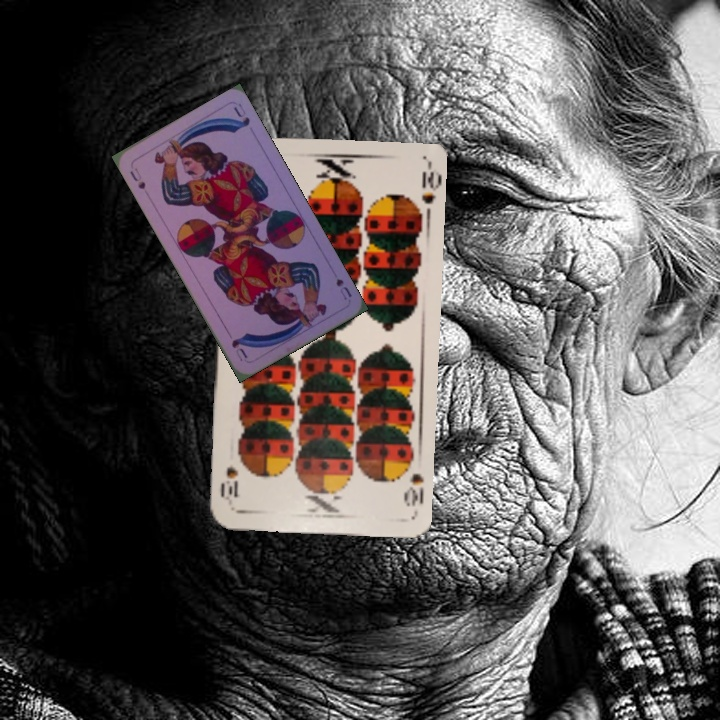S10: (399, 469, 426, 509)
SU: (125, 163, 148, 192), (332, 274, 354, 303)
